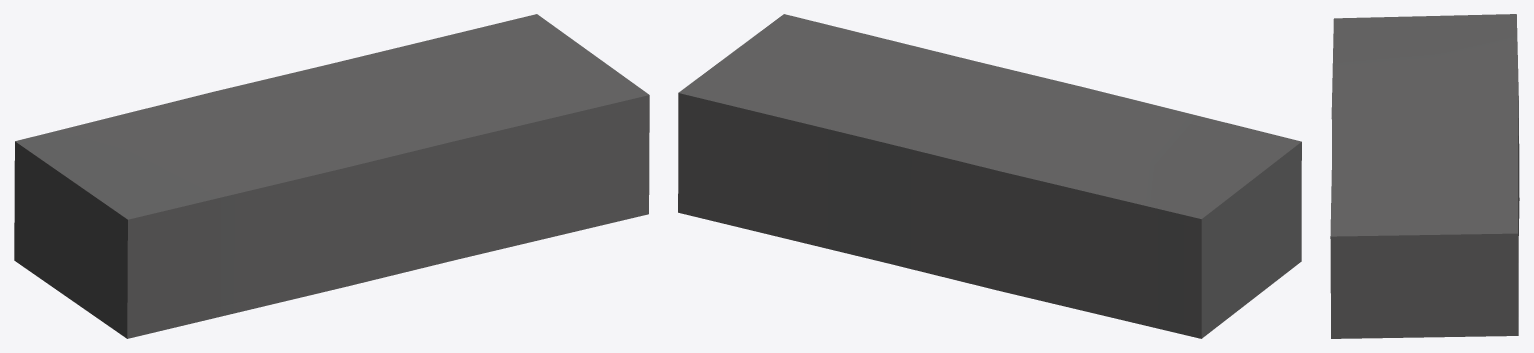
The model's file is 45Mag.fbx.
The picture shows the model from 3 angles, left to right: view 1: azimuth 30°, elevation 25°; view 2: azimuth 150°, elevation 25°; view 3: azimuth 270°, elevation 25°; orthographic projection. The views are drawn at different scales.
Parts seen in each view (by area): view 1: node_9dd0f6f6_31ed_4a20_9721_c0e673ea2e27_mesh0; view 2: node_9dd0f6f6_31ed_4a20_9721_c0e673ea2e27_mesh0; view 3: node_9dd0f6f6_31ed_4a20_9721_c0e673ea2e27_mesh0.
Boxes of the visible parts, box(x1,y1,x2,y2) form: node_9dd0f6f6_31ed_4a20_9721_c0e673ea2e27_mesh0: box(14, 14, 649, 338); node_9dd0f6f6_31ed_4a20_9721_c0e673ea2e27_mesh0: box(678, 14, 1301, 338); node_9dd0f6f6_31ed_4a20_9721_c0e673ea2e27_mesh0: box(1330, 14, 1519, 338).
Bounding box in the file's own units: 0.0646 × 0.0143 × 0.0234.
